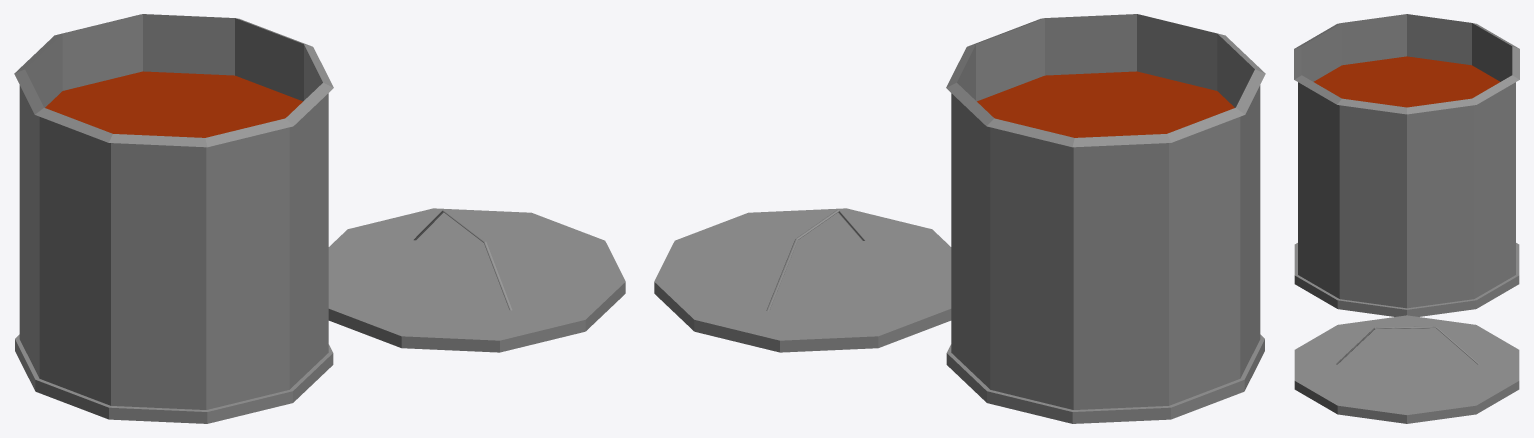
File: cubo_pintura_rojo.fbx
The picture shows the model from 3 angles, left to right: view 1: azimuth 30°, elevation 25°; view 2: azimuth 150°, elevation 25°; view 3: azimuth 270°, elevation 25°; orthographic projection. The views are drawn at different scales.
Visible parts, largest first — view 1: pCylinder3; view 2: pCylinder3; view 3: pCylinder3.
Part boxes in pixels (box(x1,y1,x2,y2)): pCylinder3: box(14, 14, 625, 423); pCylinder3: box(654, 14, 1265, 423); pCylinder3: box(1294, 14, 1519, 423).
Size of the model in its own units: 4.11 by 1.94 by 1.91.
